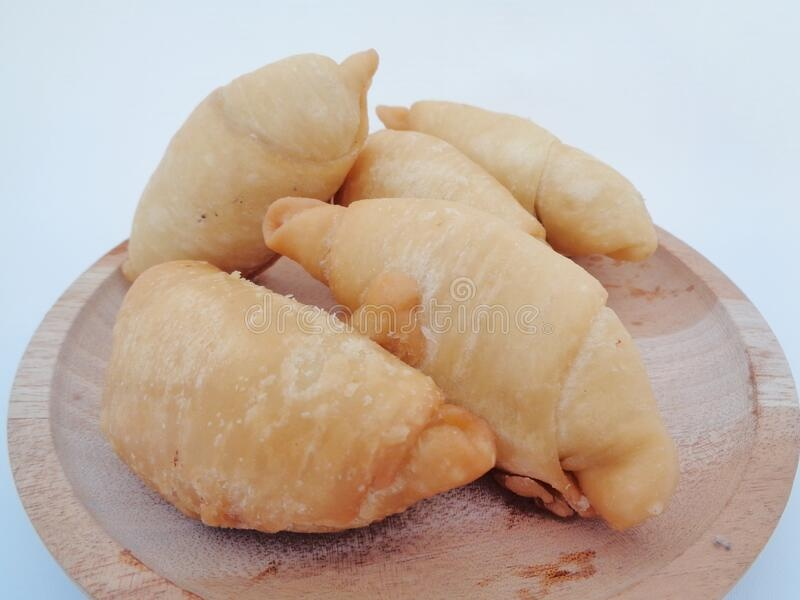pisang_molen: (265, 199, 680, 534), (104, 258, 499, 532), (102, 46, 380, 282)
